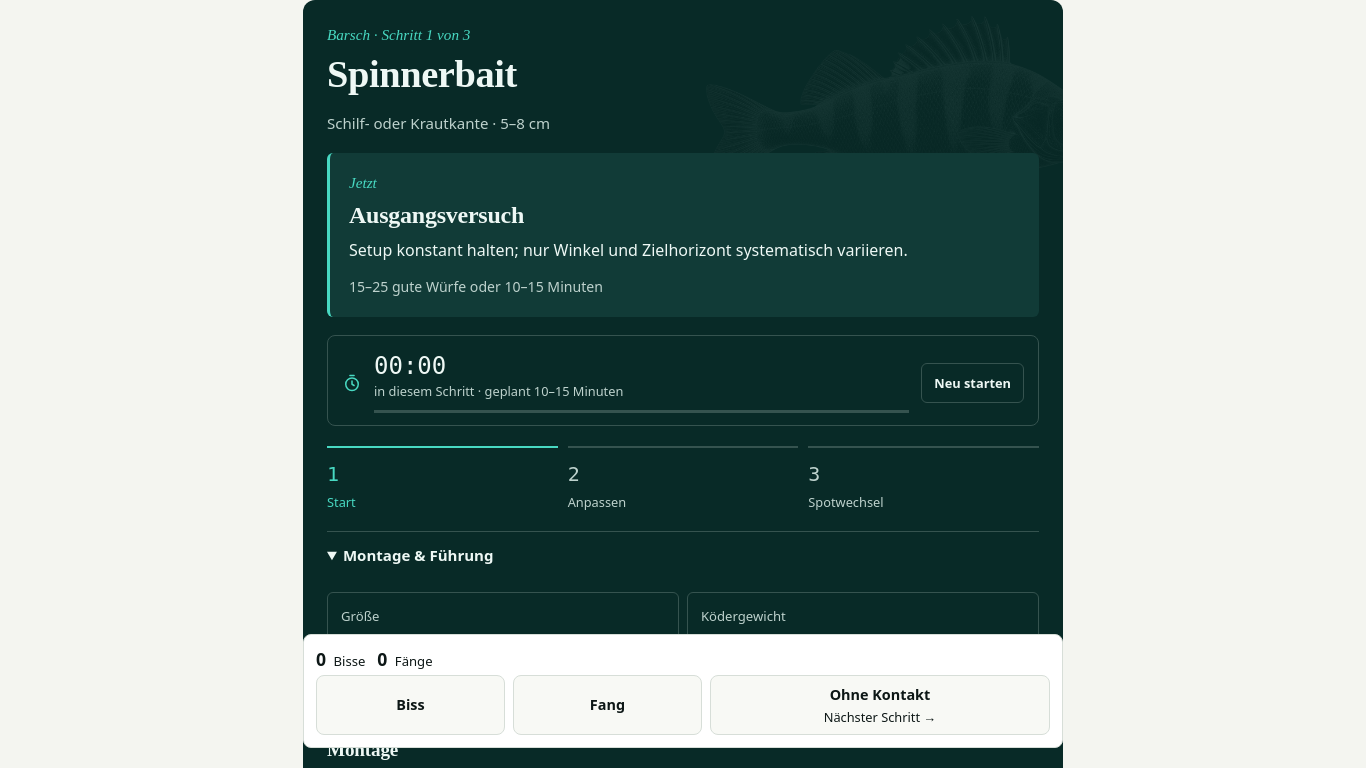
Test: Fang-Details › öffnet nach einem Fang ein optionales Detailblatt und vibriert kurz
Click the button "Fang" at point(607, 705), box [513,676,702,735]
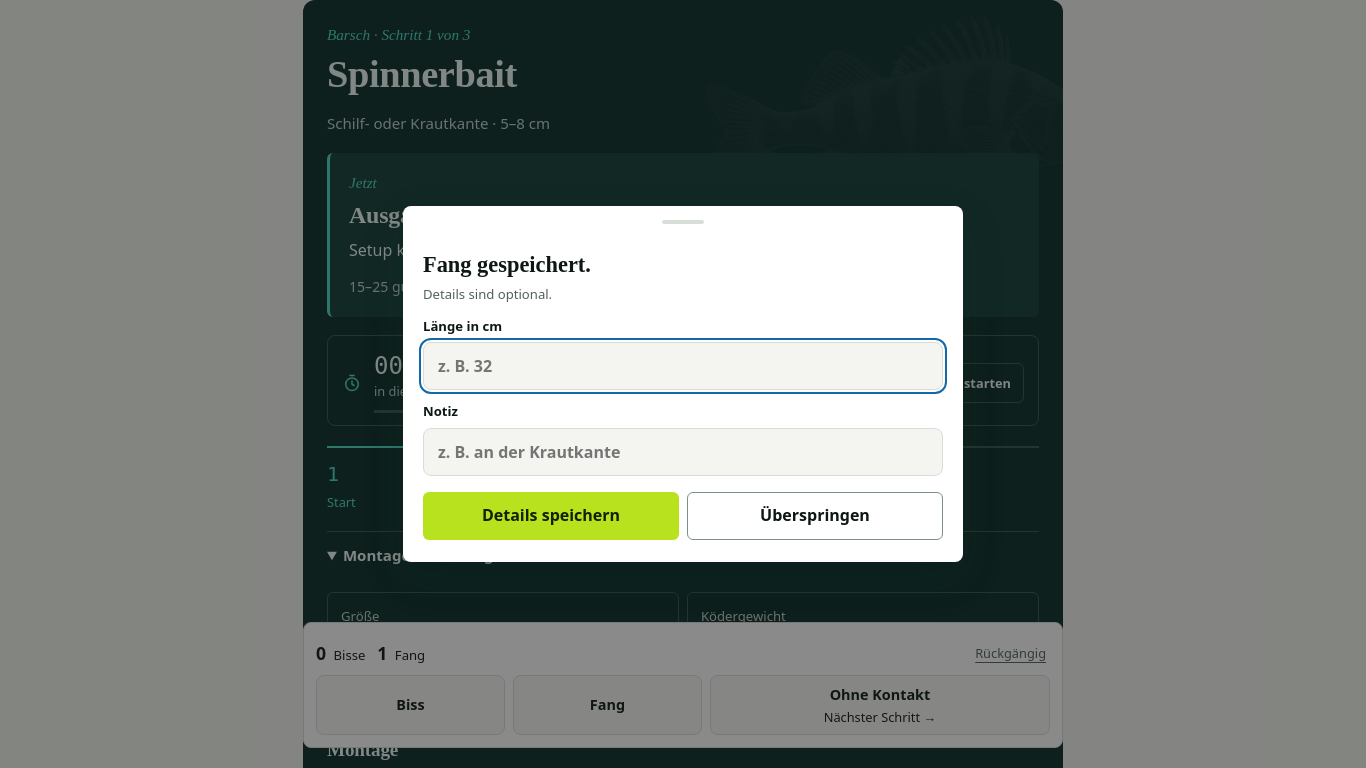
Type "28,5" into the field labelled "Länge in cm" at point(683, 366), box [423,342,943,390]
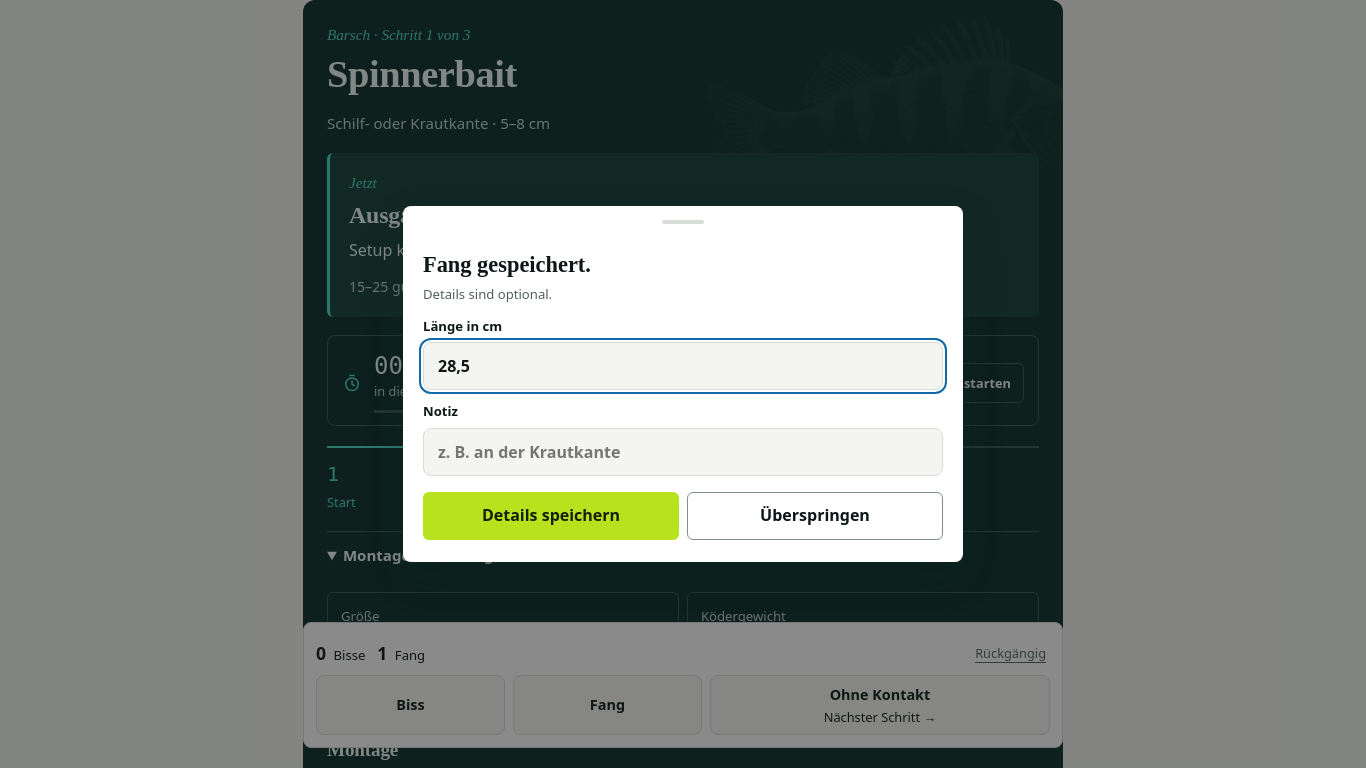
Click the button "Details speichern" at point(551, 516), box [423,492,679,540]
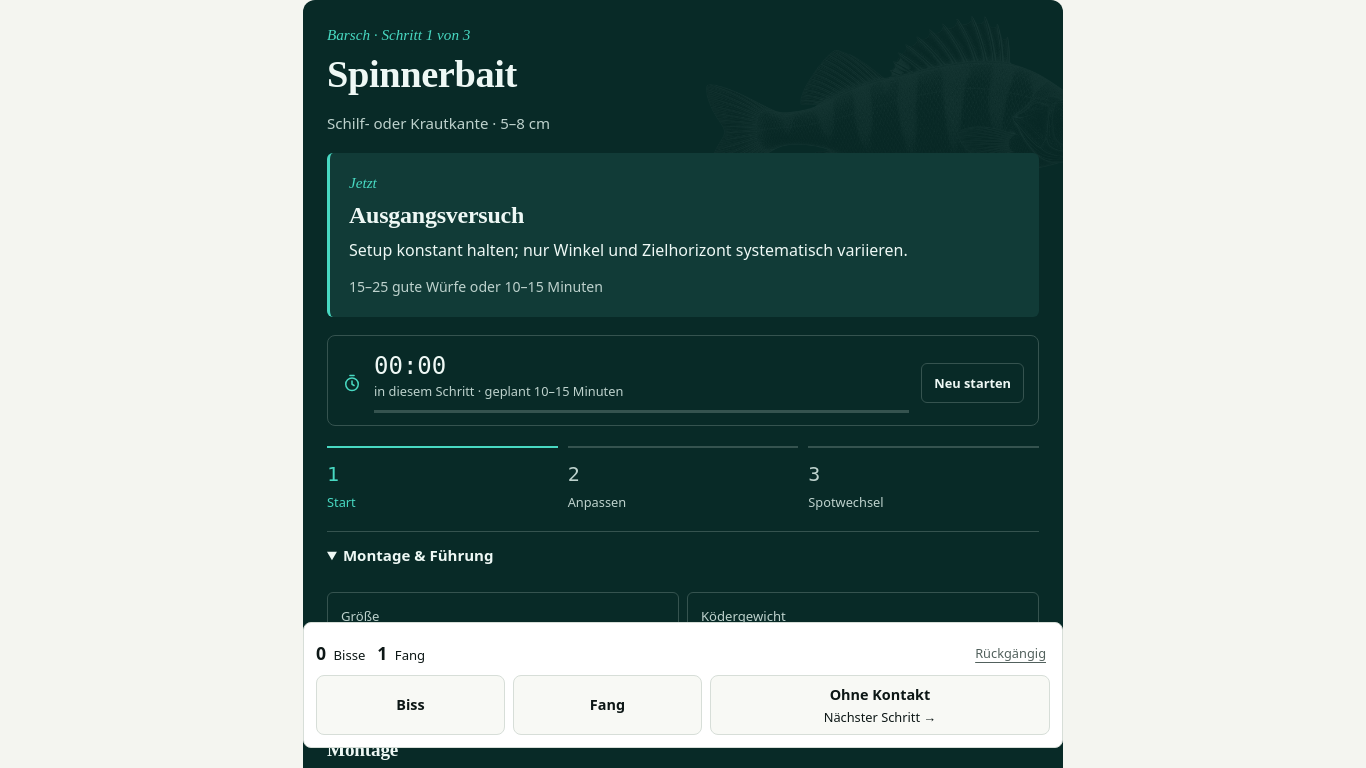
Now the dialog "Fang-Details" is gone
